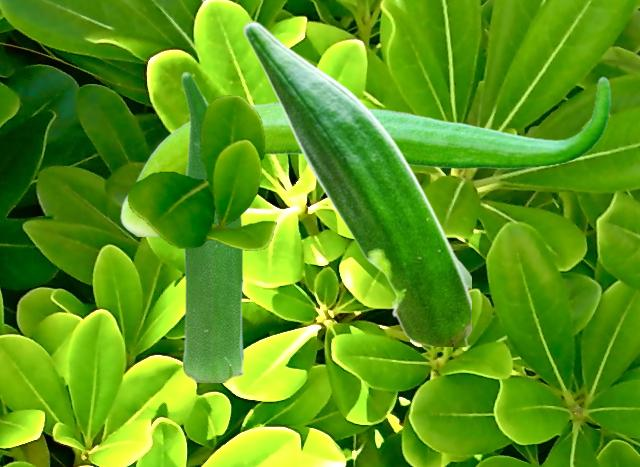okra: (120, 76, 610, 235), (242, 21, 470, 345), (181, 71, 242, 381)
